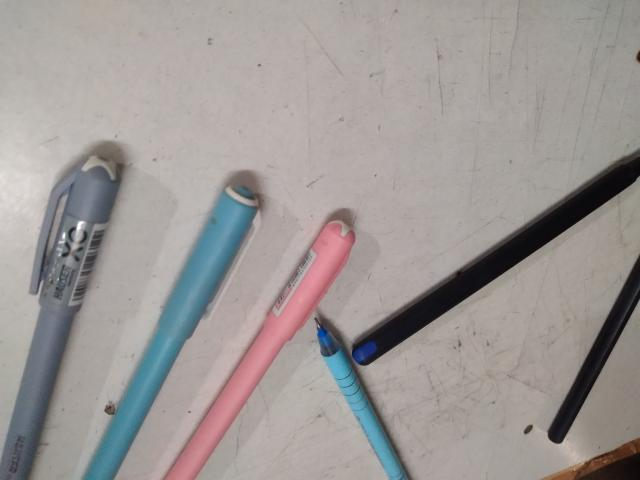PEN: (0, 96, 298, 337), (0, 15, 110, 216)
